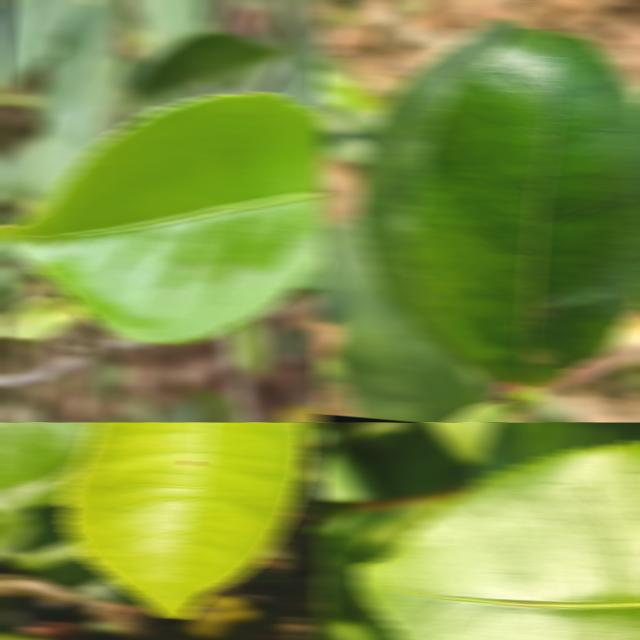Leaf: (410, 29, 640, 386), (0, 91, 324, 343), (354, 20, 519, 365), (354, 441, 640, 640), (60, 422, 308, 618), (319, 218, 496, 422), (127, 31, 290, 115), (32, 65, 124, 204), (48, 0, 125, 137), (316, 49, 385, 163), (0, 0, 79, 89), (471, 422, 584, 478), (0, 296, 85, 340), (142, 0, 206, 46), (231, 317, 270, 375)
